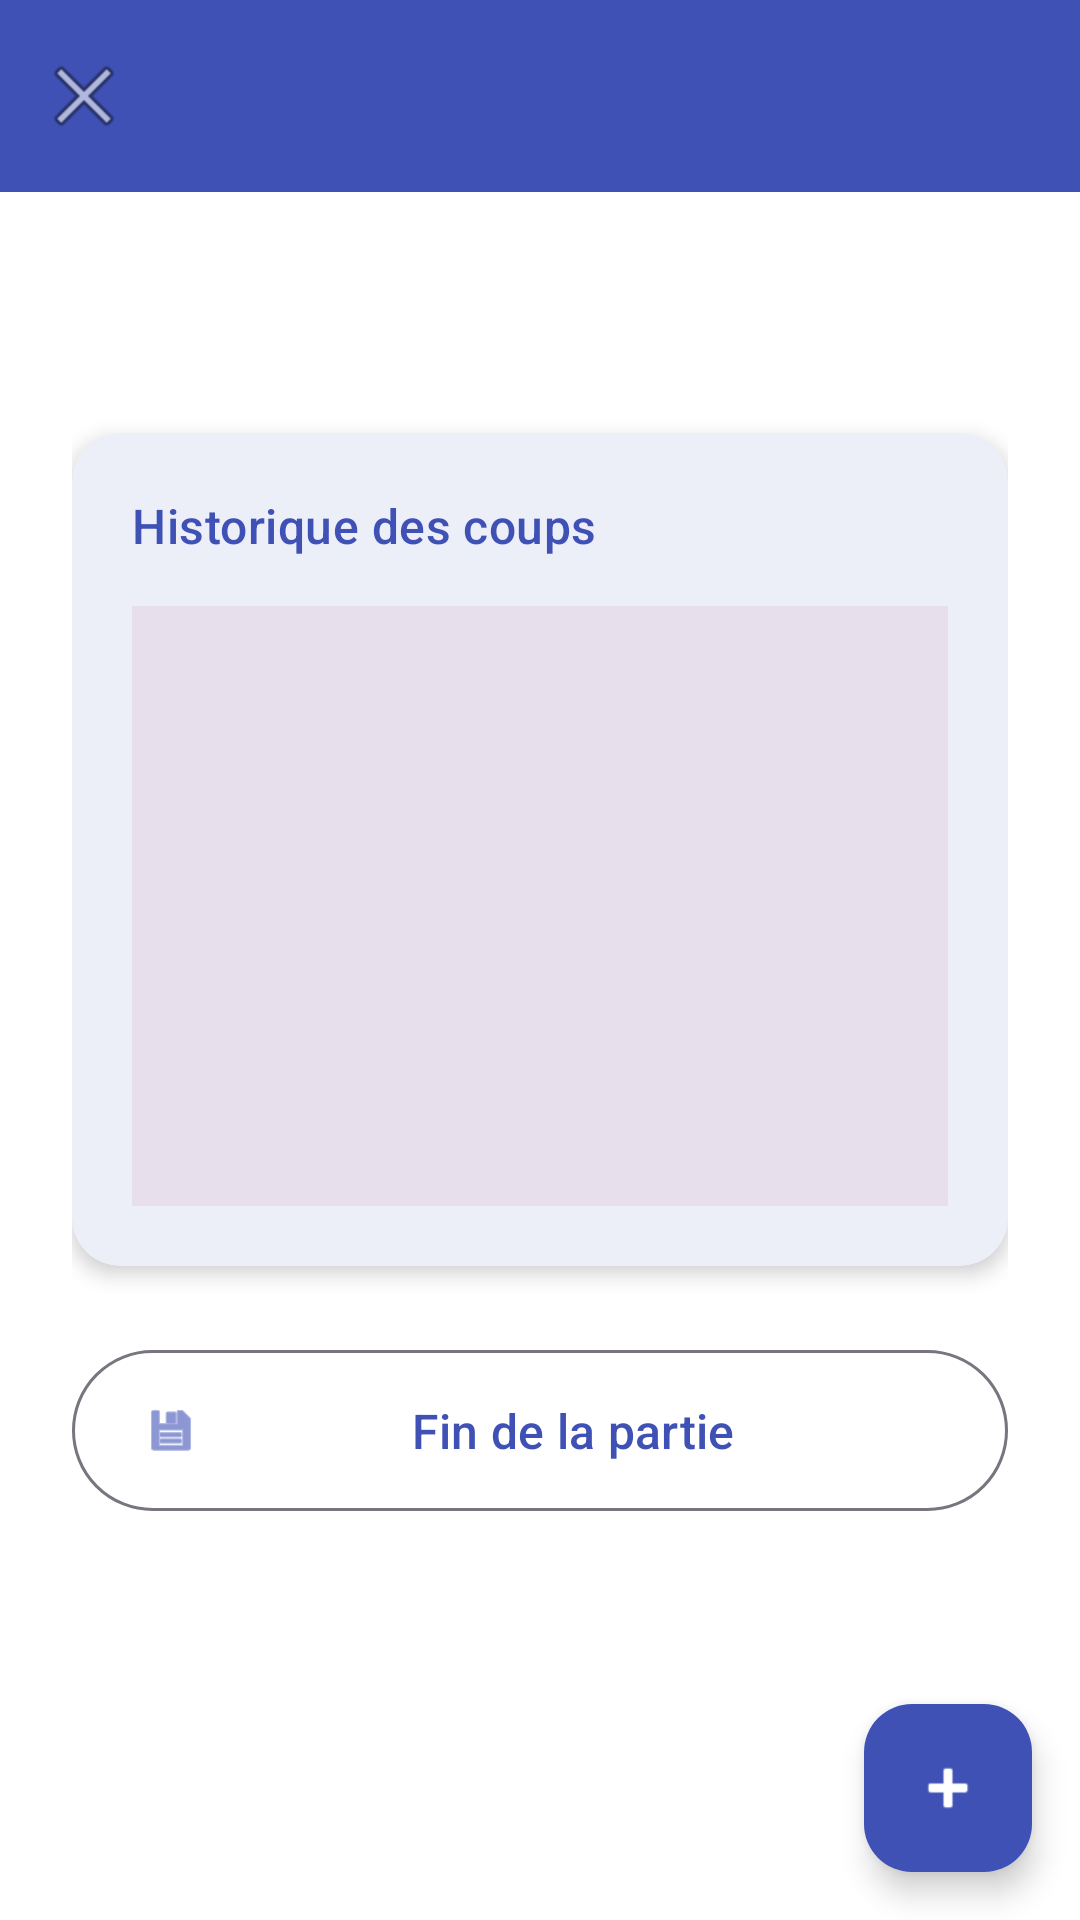

Named icons in this screenshot (1080x1920) and their centers, (x,y):
Ajouter un coup: (948,1788)
